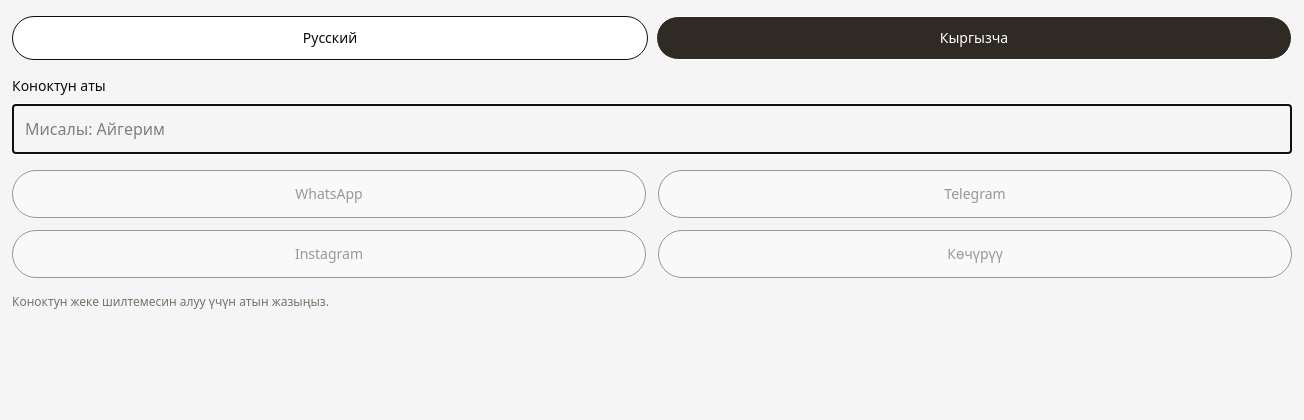
Test: именное приглашение: 4 кнопки, отправляется только ссылка › «Скопировать» копирует ссылку, а не текст
Type "Нурлан" into the field with placeholder "Мисалы: Айгерим" at coordinates (652, 129), box [12,104,1292,154]
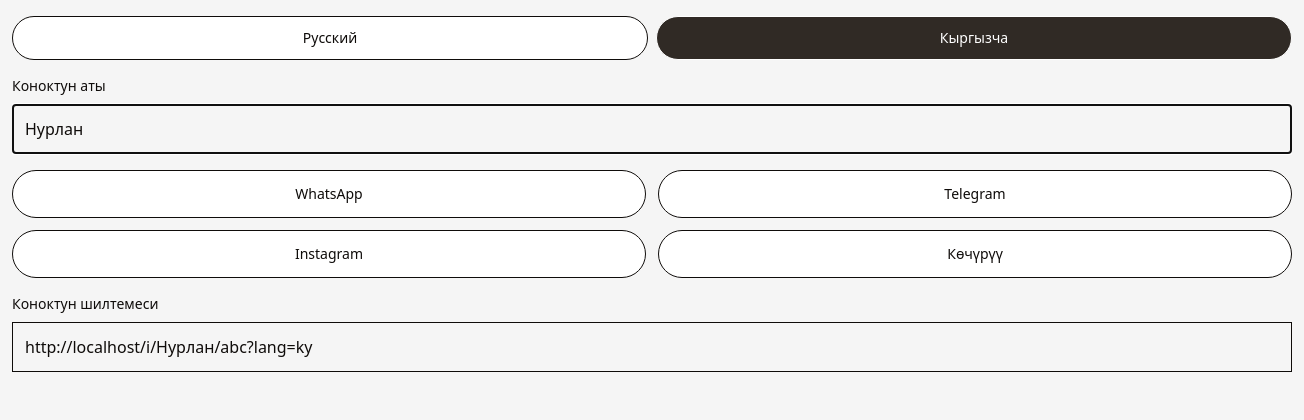
Click the button "Көчүрүү" at coordinates (975, 254), box [658,230,1292,278]
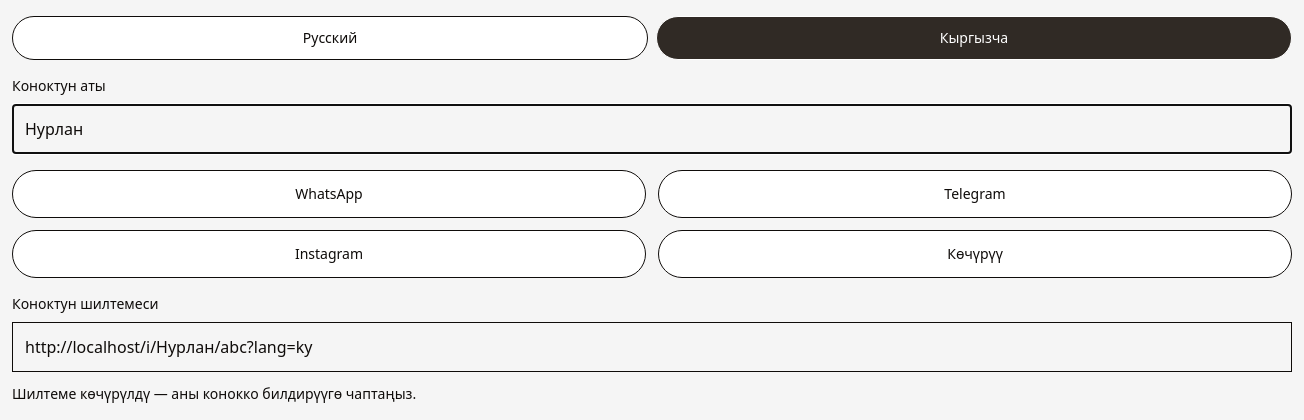
Expected: the message "Шилтеме көчүрүлдү — аны конокко билдирүүгө чаптаңыз." is shown, [12,384,416,403]
